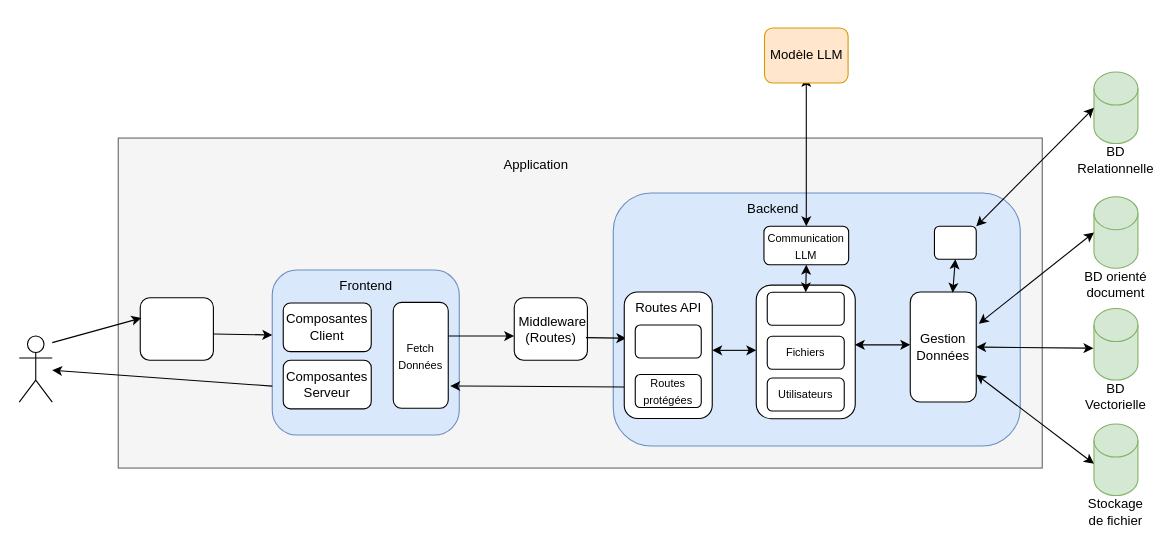
The diagram is 1173 pixels wide and 548 high, and some of its shapes have lost their labels. The shapes that lost their labels are listed below. From the top down, each one's box as (x1, y1, x2, y2) in pixels, then its label:
(933, 225, 976, 259): ORM
(766, 291, 844, 325): Evaluations
(139, 297, 213, 360): Middleware (Pages)
(634, 324, 701, 358): Routes ouvertes
(18, 335, 52, 402): User
